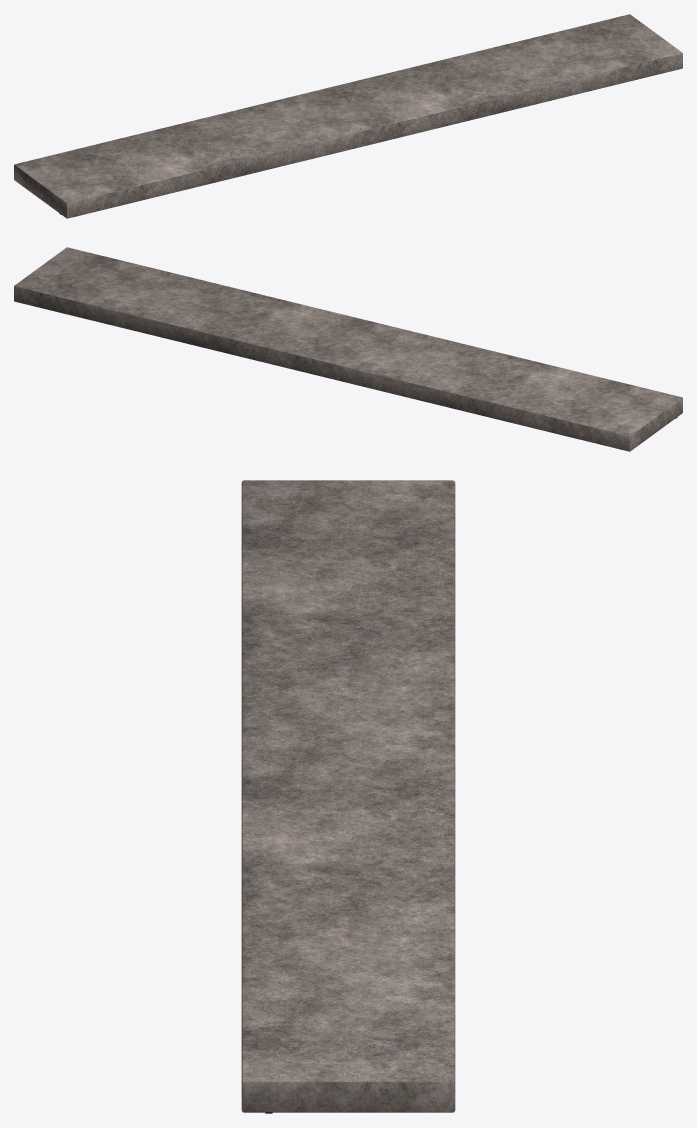
File: ESQ-PCH-001.glb
3 renders of one model, top to bottom at view 1: azimuth 30°, elevation 25°; view 2: azimuth 150°, elevation 25°; view 3: azimuth 270°, elevation 25°, orthographic. The views are drawn at different scales.
Visible parts, largest first — view 1: ESQ-PCH-001_pedra; view 2: ESQ-PCH-001_pedra; view 3: ESQ-PCH-001_pedra.
Boxes of the visible parts, x1,y1,x2,y2 form: ESQ-PCH-001_pedra: (14,14,682,218); ESQ-PCH-001_pedra: (14,247,682,451); ESQ-PCH-001_pedra: (241,480,455,1112).
Size of the model in its own units: 1.2 by 0.03 by 0.18.
2 materials, 1 textured.
